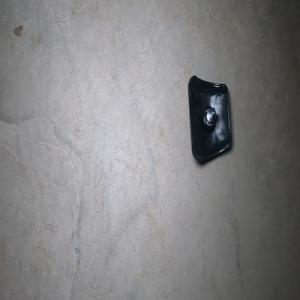LuggagePart: (187, 74, 232, 165)
